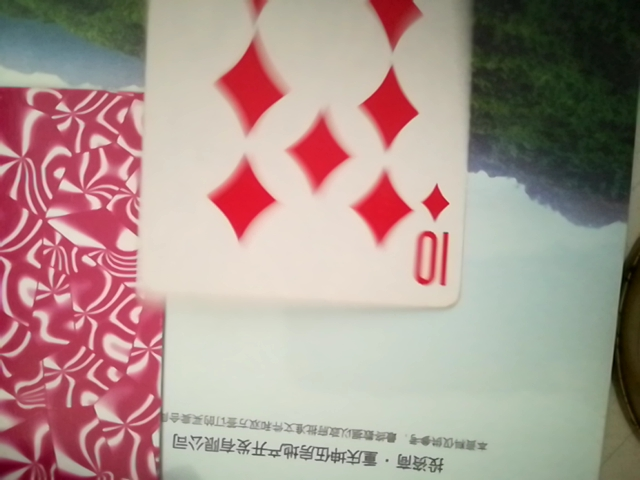fk 10: (133, 0, 484, 317)
